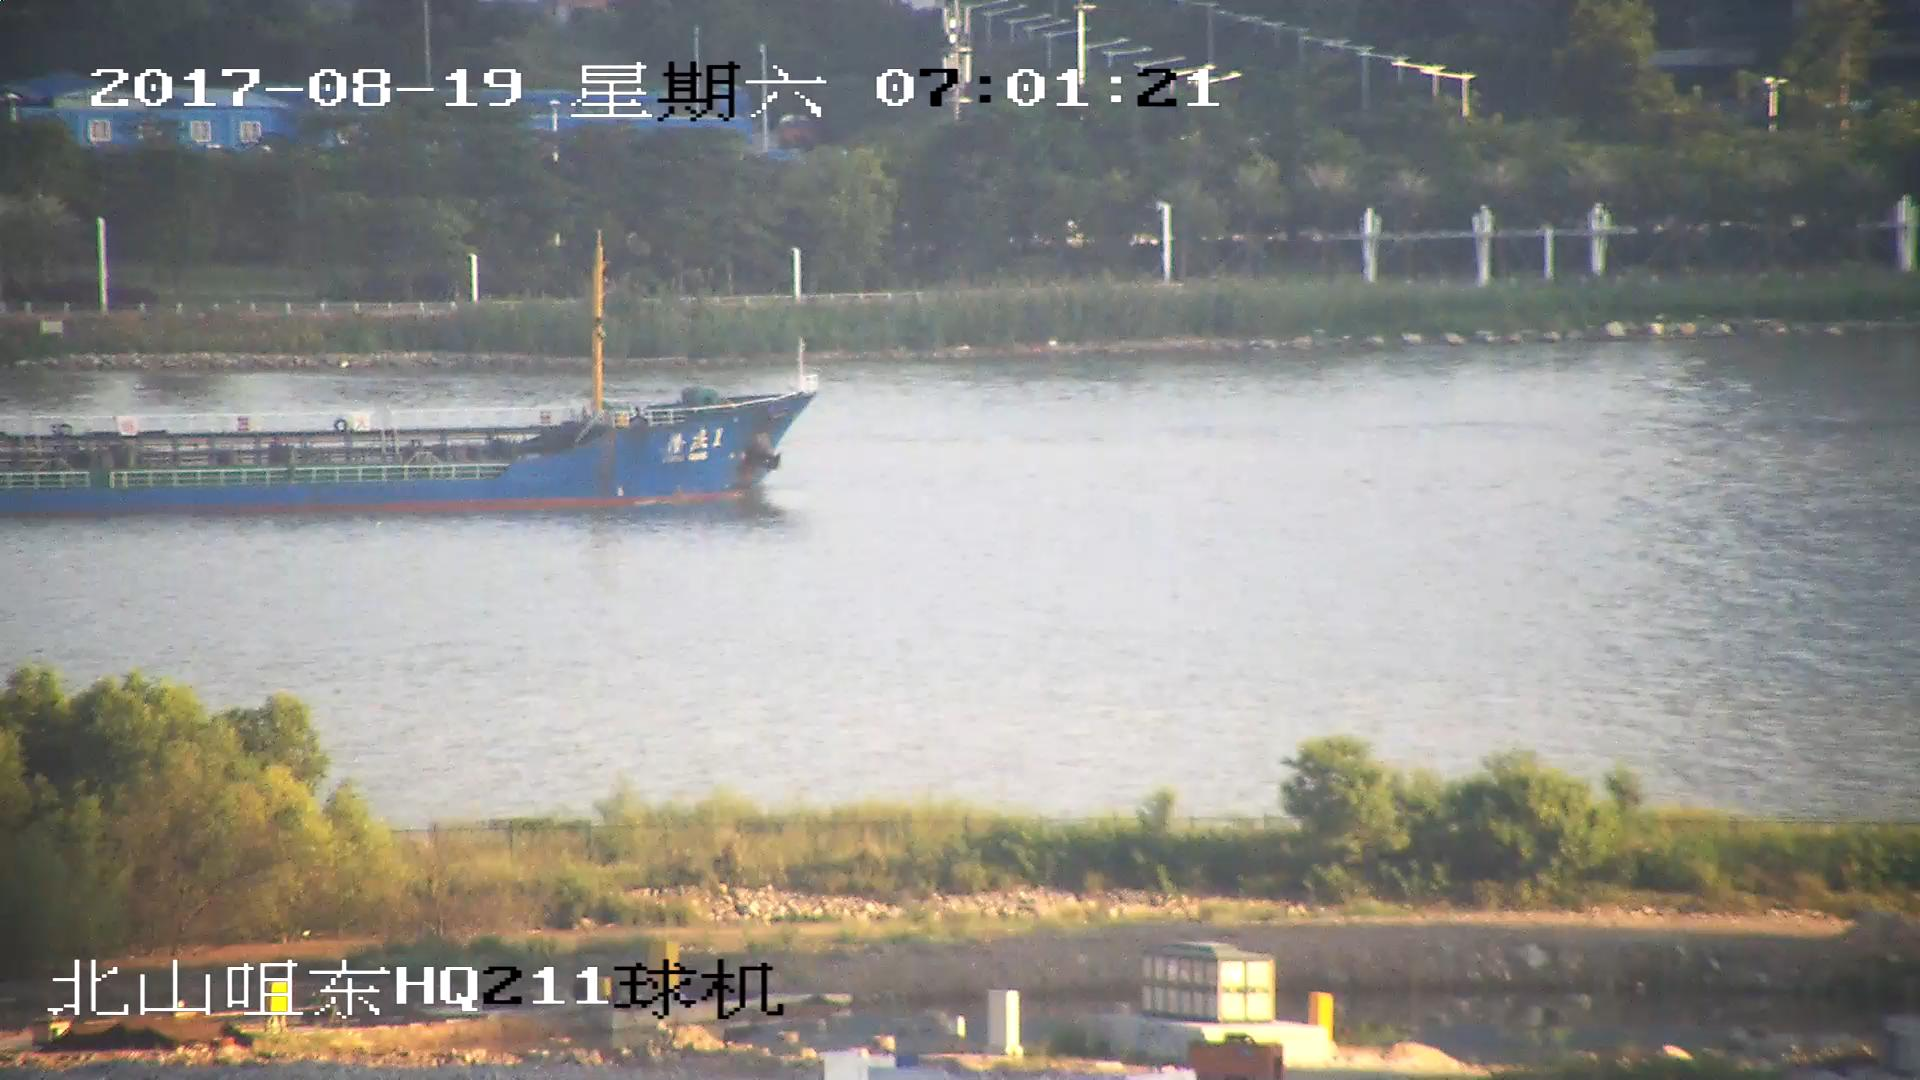general cargo ship: (1, 240, 821, 518)
